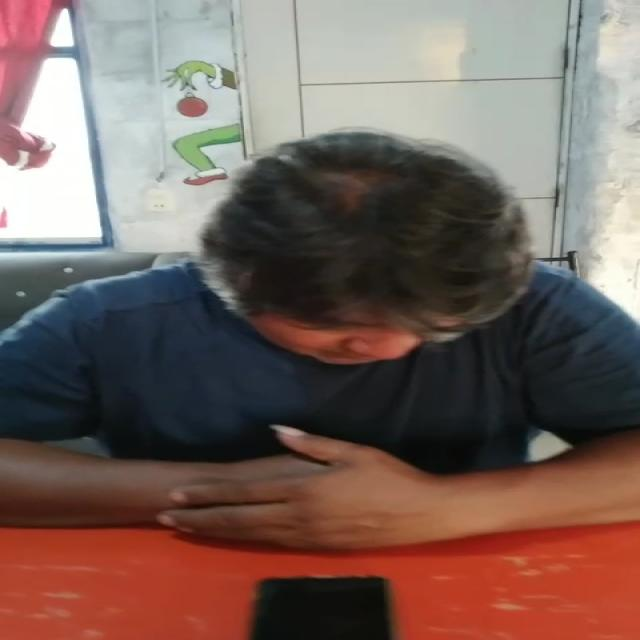9_cabeza_baja: (198, 130, 524, 366)
